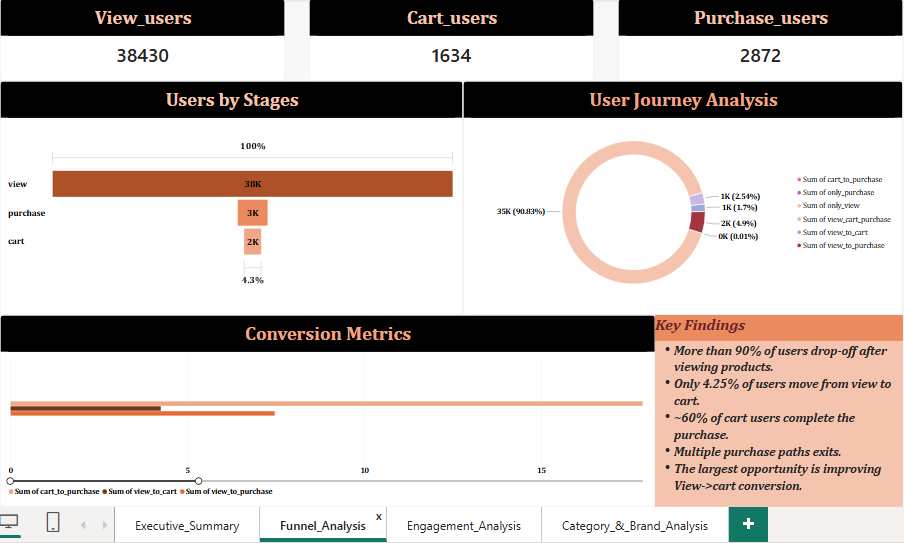

This screenshot's page, from the dashboard's own definition file:
{"tool":"powerbi","page":{"name":"Funnel_Analysis","canvas":[1920,1080],"ordinal":1},"visuals":[{"type":"funnel","title":"Users by Stages","fields":{"Category":["funnel_summary.stage"],"Y":["Sum(funnel_summary.Users)"]},"box":[0,174.3,984.3,497.5],"z":0},{"type":"kpi","title":"View_users","fields":{"Indicator":["Sum(funnel_summary_02.view_users)"],"TrendLine":["funnel_summary_02.view_users"]},"box":[0,0,605.9,174.3],"z":1000},{"type":"kpi","title":"Purchase_users","fields":{"Indicator":["Sum(funnel_summary_02.purchase_users)"],"TrendLine":["funnel_summary_02.purchase_users"]},"box":[1313.9,0,605.9,174.3],"z":2000},{"type":"kpi","title":"Cart_users","fields":{"Indicator":["Sum(funnel_summary_02.cart_users)"],"TrendLine":["funnel_summary_02.cart_users"]},"box":[656.9,0,605.9,174.3],"z":3000},{"type":"clusteredBarChart","title":"Conversion Metrics","fields":{"Y":["Sum(conversion_rate.cart_to_purchase)","Sum(conversion_rate.view_to_cart)","Sum(conversion_rate.view_to_purchase)"]},"box":[0,671.8,1392.5,408.2],"z":4000},{"type":"donutChart","title":"User Journey Analysis","fields":{"Y":["Sum(user_journey_analysis.cart_to_purchase)","Sum(user_journey_analysis.only_purchase)","Sum(user_journey_analysis.only_view)","Sum(user_journey_analysis.view_cart_purchase)","Sum(user_journey_analysis.view_to_cart)","Sum(user_journey_analysis.view_to_purchase)"]},"box":[984.3,174.3,935.4,497.5],"z":5000},{"type":"textbox","title":"Key Findings","box":[1392.5,671.8,527.2,408.2],"z":6000}]}

Visuals, with their boxes on the page's 1920x1080 design canvas (x1, y1, x2, y2). These are canvas units, not pixel positions in the 904x543 screenshot, which may show the page scaled, cropped or inside an application window:
"Users by Stages" funnel: detection(0, 174, 984, 672)
"View_users" kpi: detection(0, 0, 606, 174)
"Purchase_users" kpi: detection(1314, 0, 1920, 174)
"Cart_users" kpi: detection(657, 0, 1263, 174)
"Conversion Metrics" clusteredBarChart: detection(0, 672, 1392, 1080)
"User Journey Analysis" donutChart: detection(984, 174, 1920, 672)
"Key Findings" textbox: detection(1392, 672, 1920, 1080)
